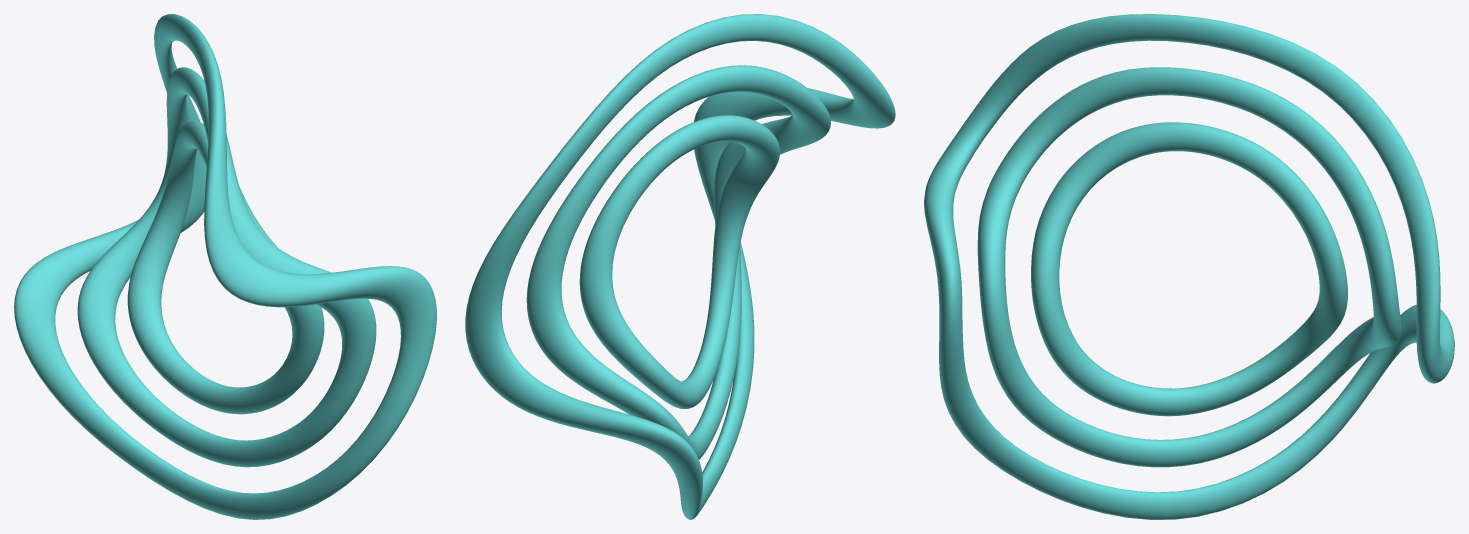
3 views of the same model, side by side, from view 1: azimuth 30°, elevation 25°; view 2: azimuth 150°, elevation 25°; view 3: azimuth 270°, elevation 25° (orthographic). The views are drawn at different scales.
Visible parts, largest first — view 1: currentmodel.wrl.cleaner.materialmerger.gles; view 2: currentmodel.wrl.cleaner.materialmerger.gles; view 3: currentmodel.wrl.cleaner.materialmerger.gles.
Boxes of the visible parts, left/top/right/bottom form: currentmodel.wrl.cleaner.materialmerger.gles: left=14, top=14, right=436, bottom=519; currentmodel.wrl.cleaner.materialmerger.gles: left=465, top=14, right=895, bottom=519; currentmodel.wrl.cleaner.materialmerger.gles: left=924, top=14, right=1454, bottom=519.
Bounding box in the file's own units: 89.7 × 189 × 182.
